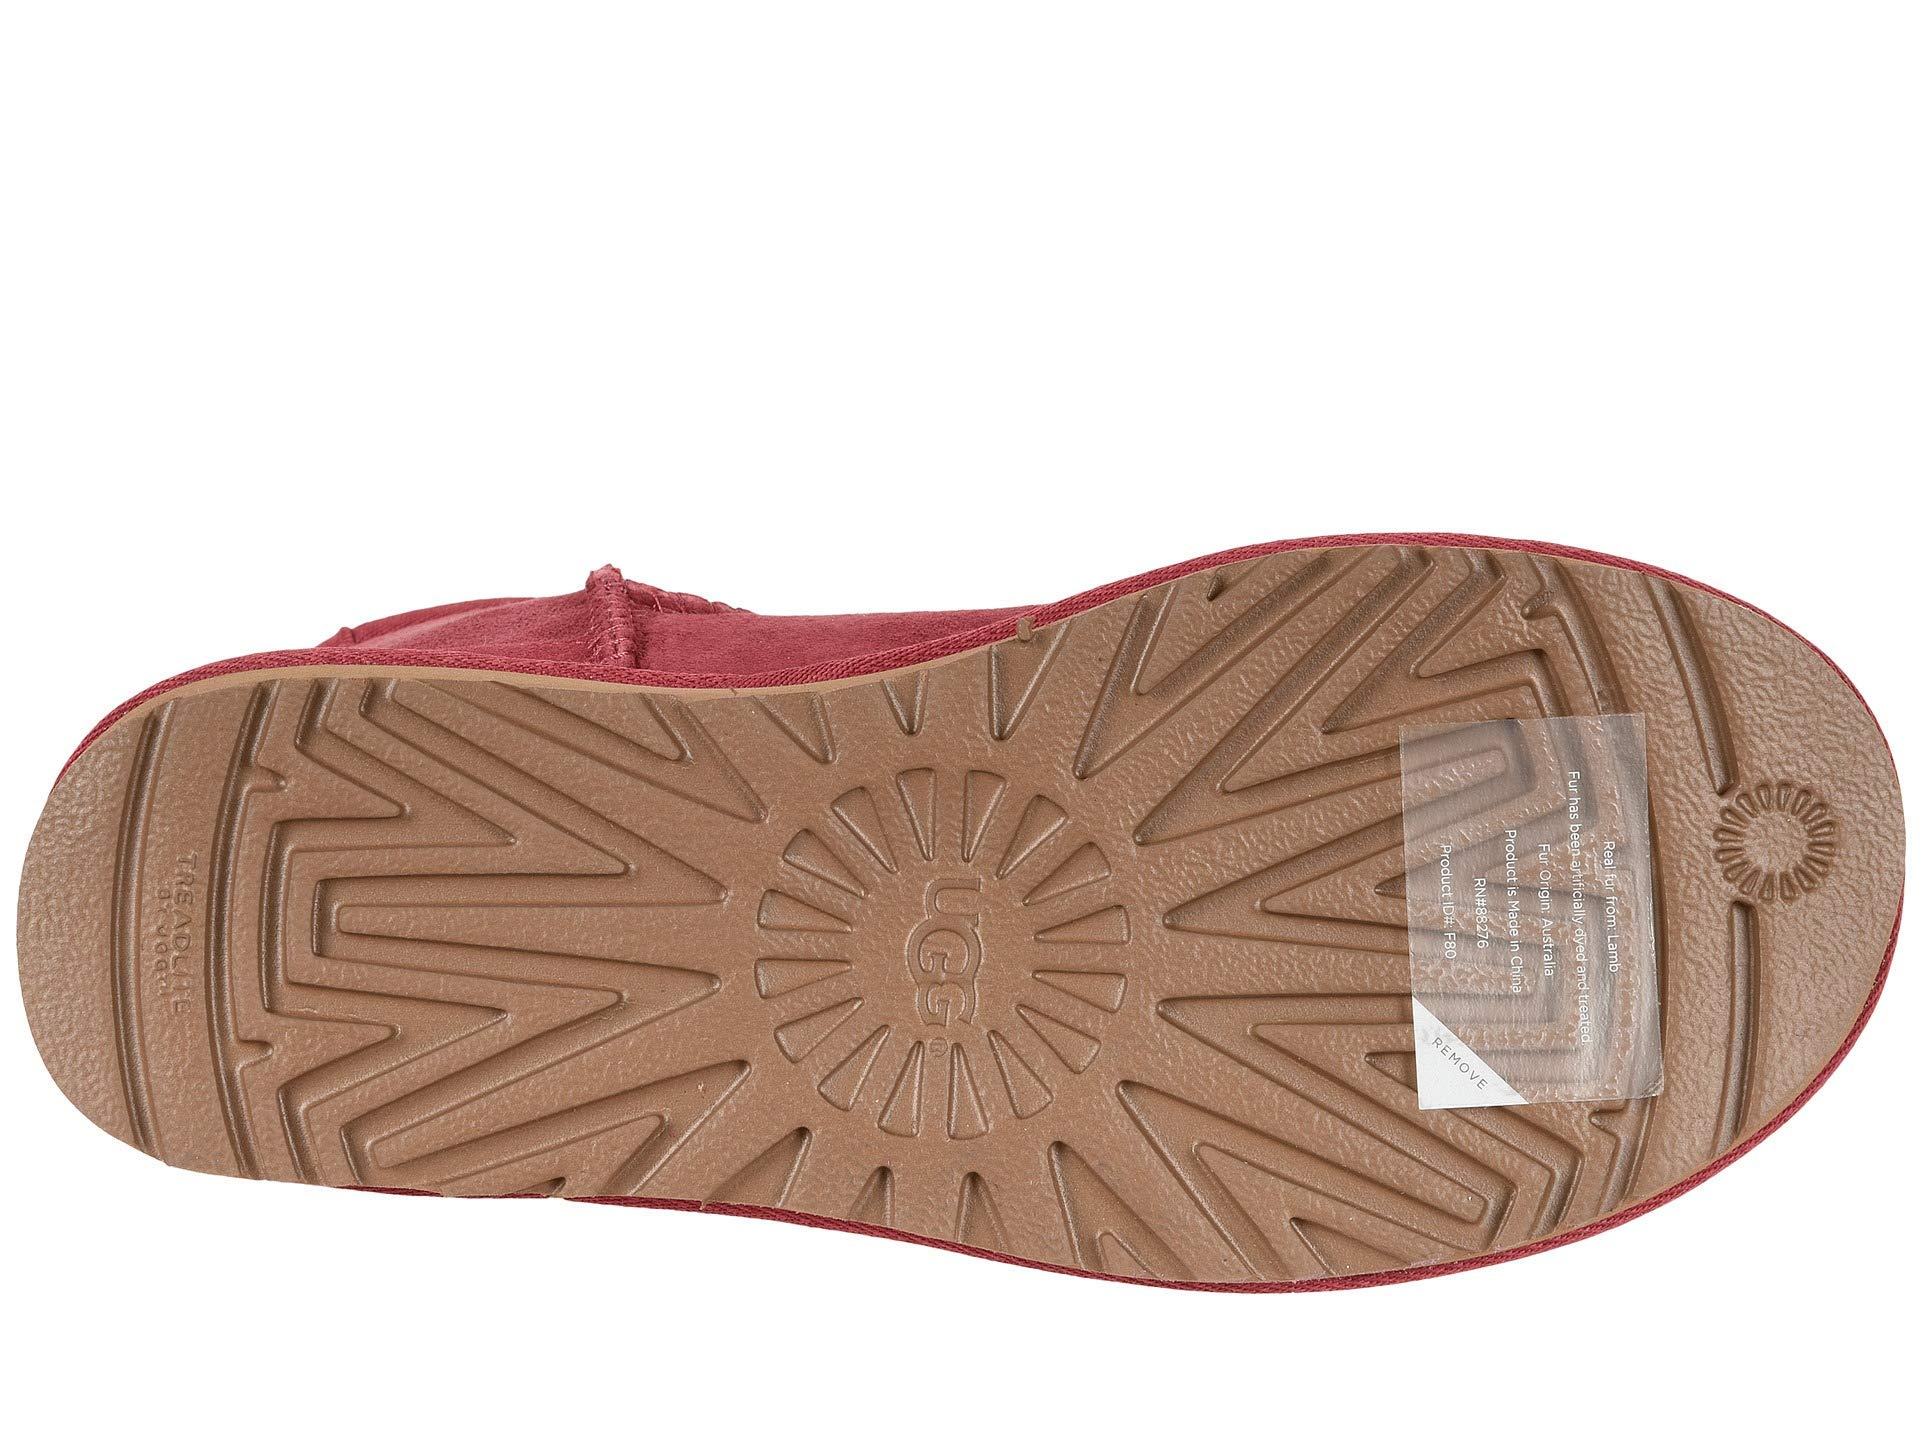chevron: (1141, 625, 1394, 1249), (470, 718, 641, 1156)
circle: (715, 761, 1134, 1144), (1705, 777, 1843, 908), (145, 839, 207, 1018)
exclude: (1395, 708, 1671, 1109)
text: (715, 761, 1134, 1144), (145, 839, 207, 1018)
triangle: (715, 761, 1134, 1144), (1705, 777, 1843, 908), (989, 625, 1073, 762), (736, 687, 854, 774), (869, 663, 965, 746)
